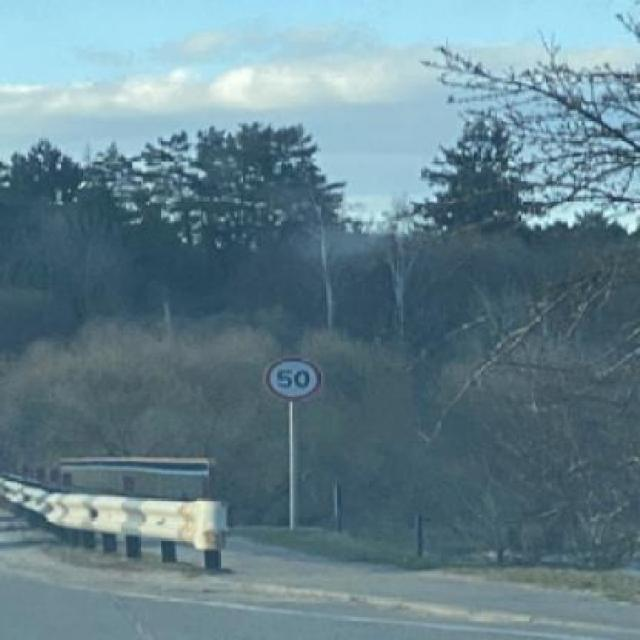Speed limit 50: (263, 355, 324, 404)
